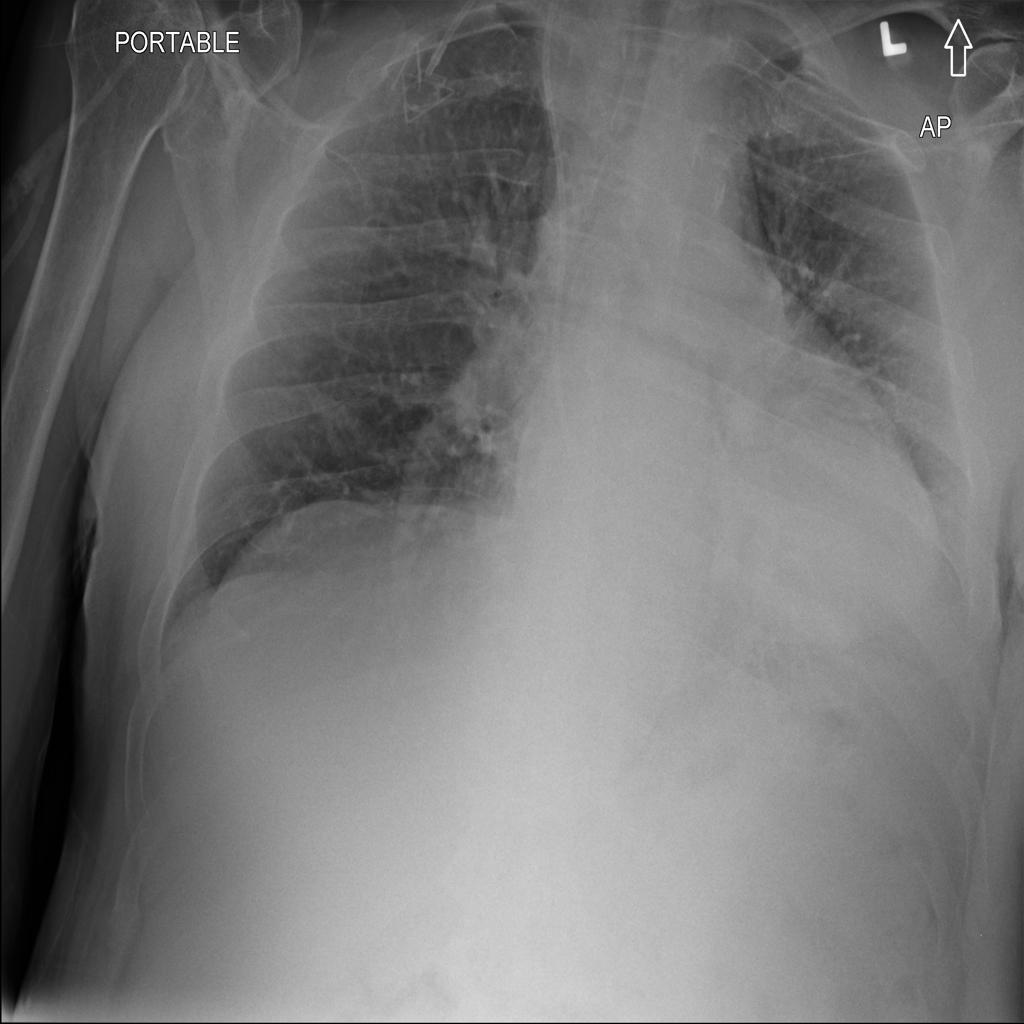nodule: (707, 379, 781, 457)
